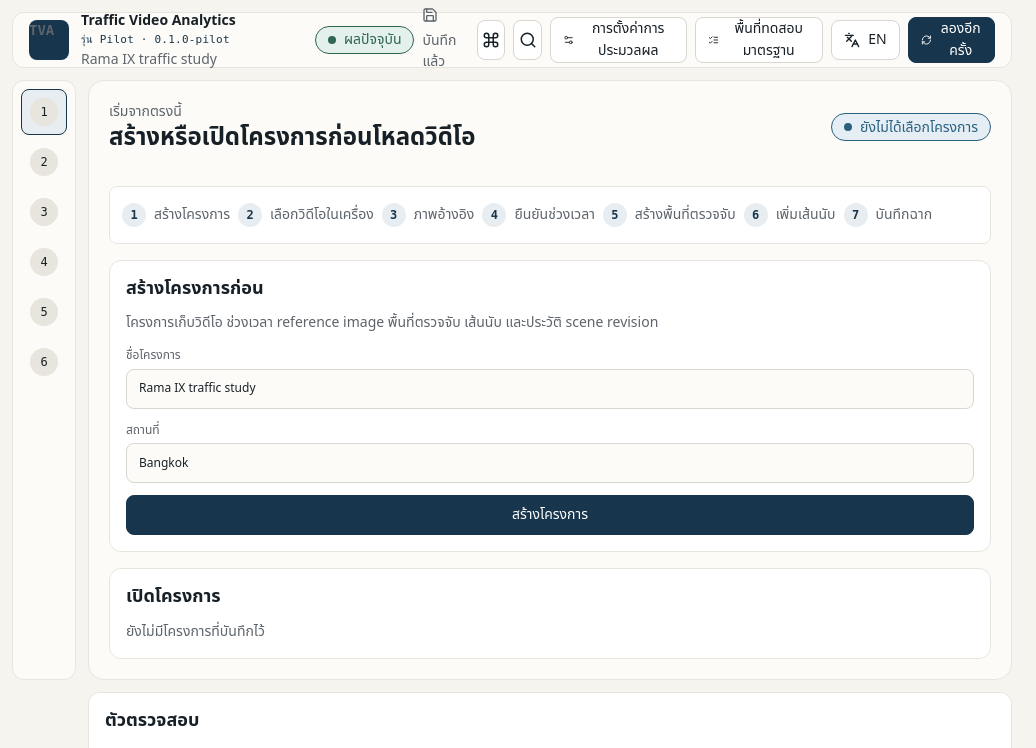
API-backed shell › renders empty state when the backend has no projects
The image size is (1036, 748).
Click the button "EN": (865,40) [831,20,900,60]
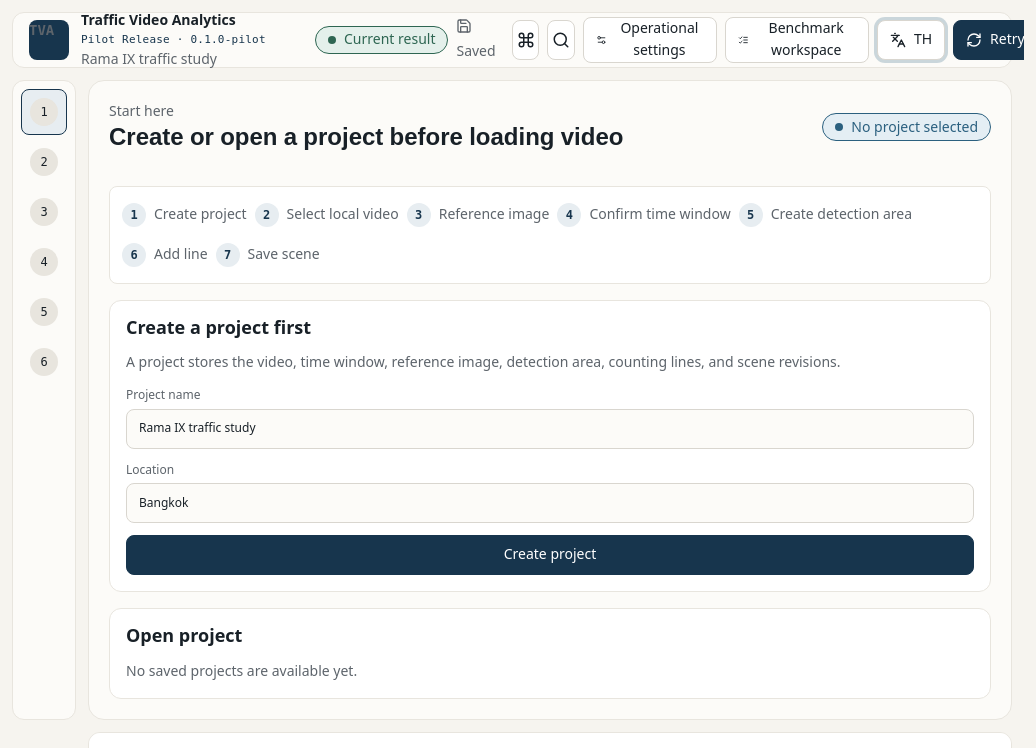
Check: the heading "Create or open a project before loading video" is shown, box [109,123,623,154]
Check: the heading "Create a project first" is shown, box [126,315,311,342]
